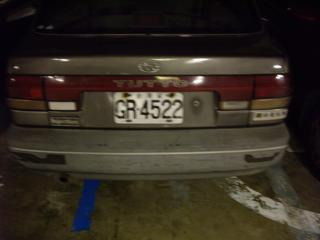plate: (109, 90, 185, 126)
